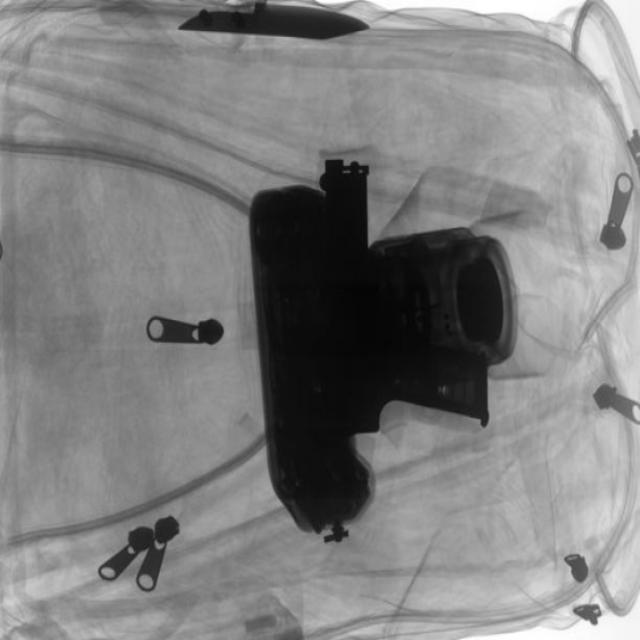GUN: (330, 149, 498, 454)
